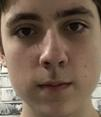without_mask: (1, 1, 101, 117)
